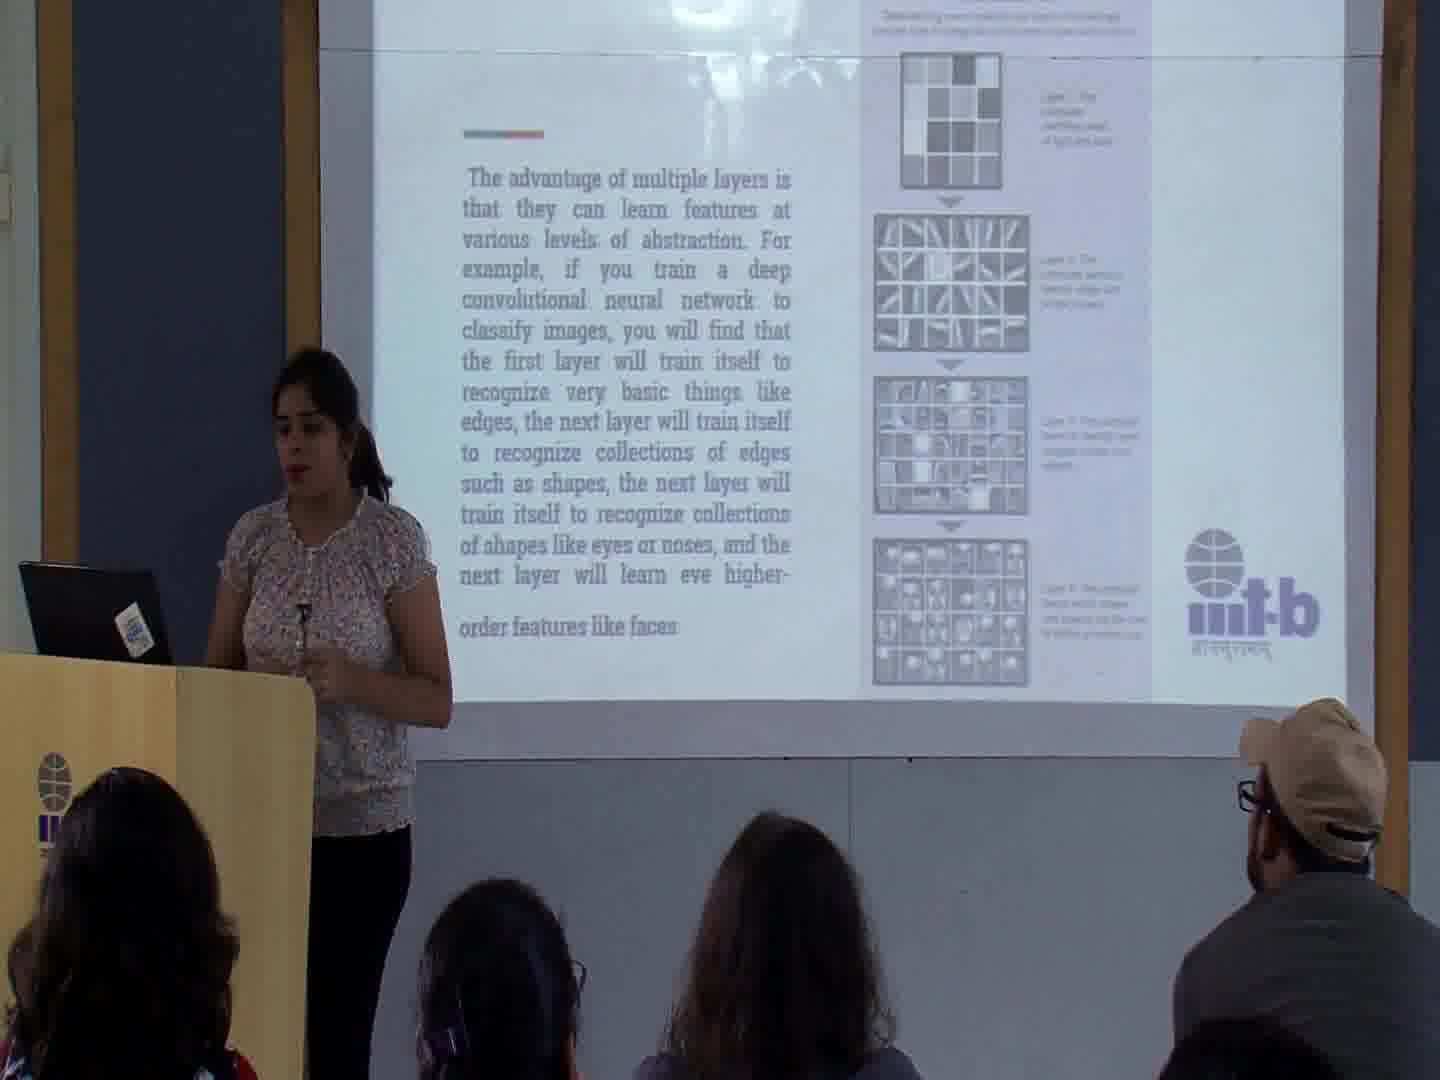fig: (873, 381, 1030, 518), (903, 54, 1000, 189)
